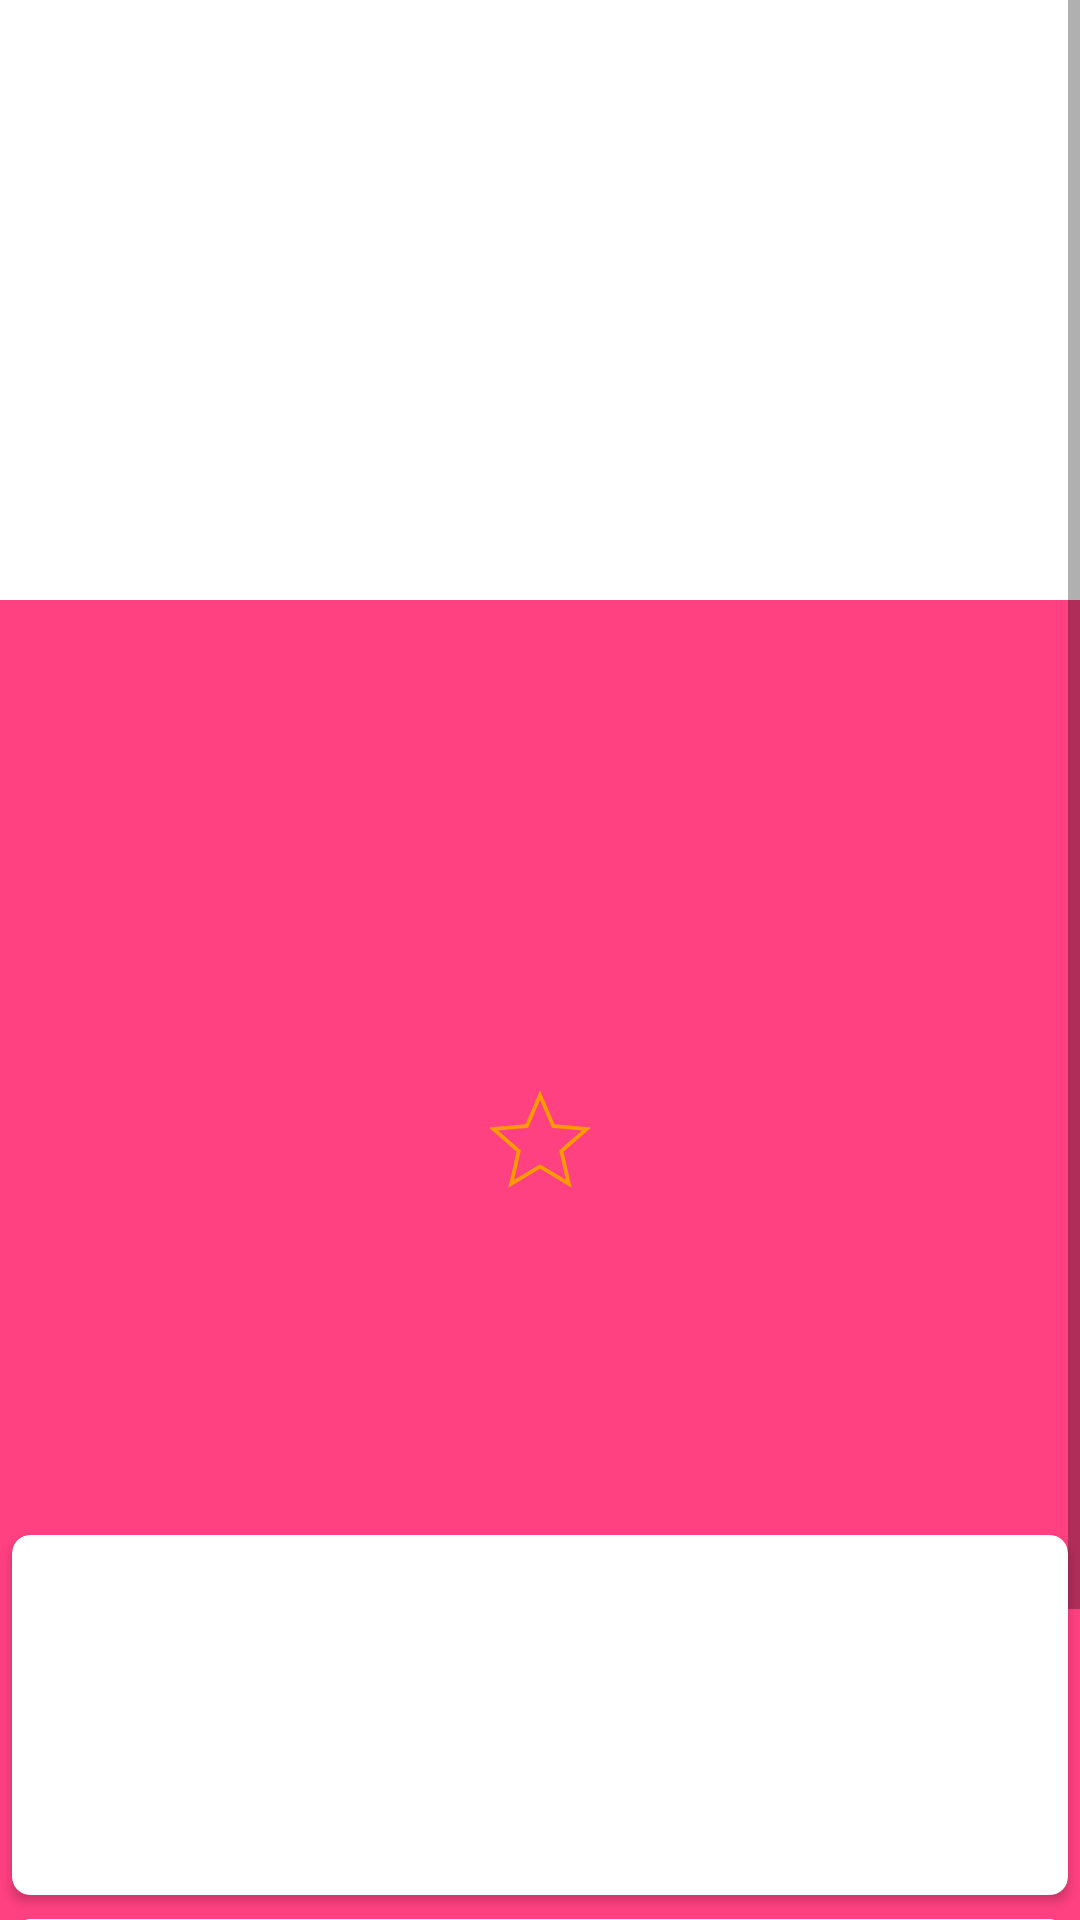

Icon click points for this 1080×1920 phone screenshot, format (x=x, y=y):
star: (x=540, y=1139)
